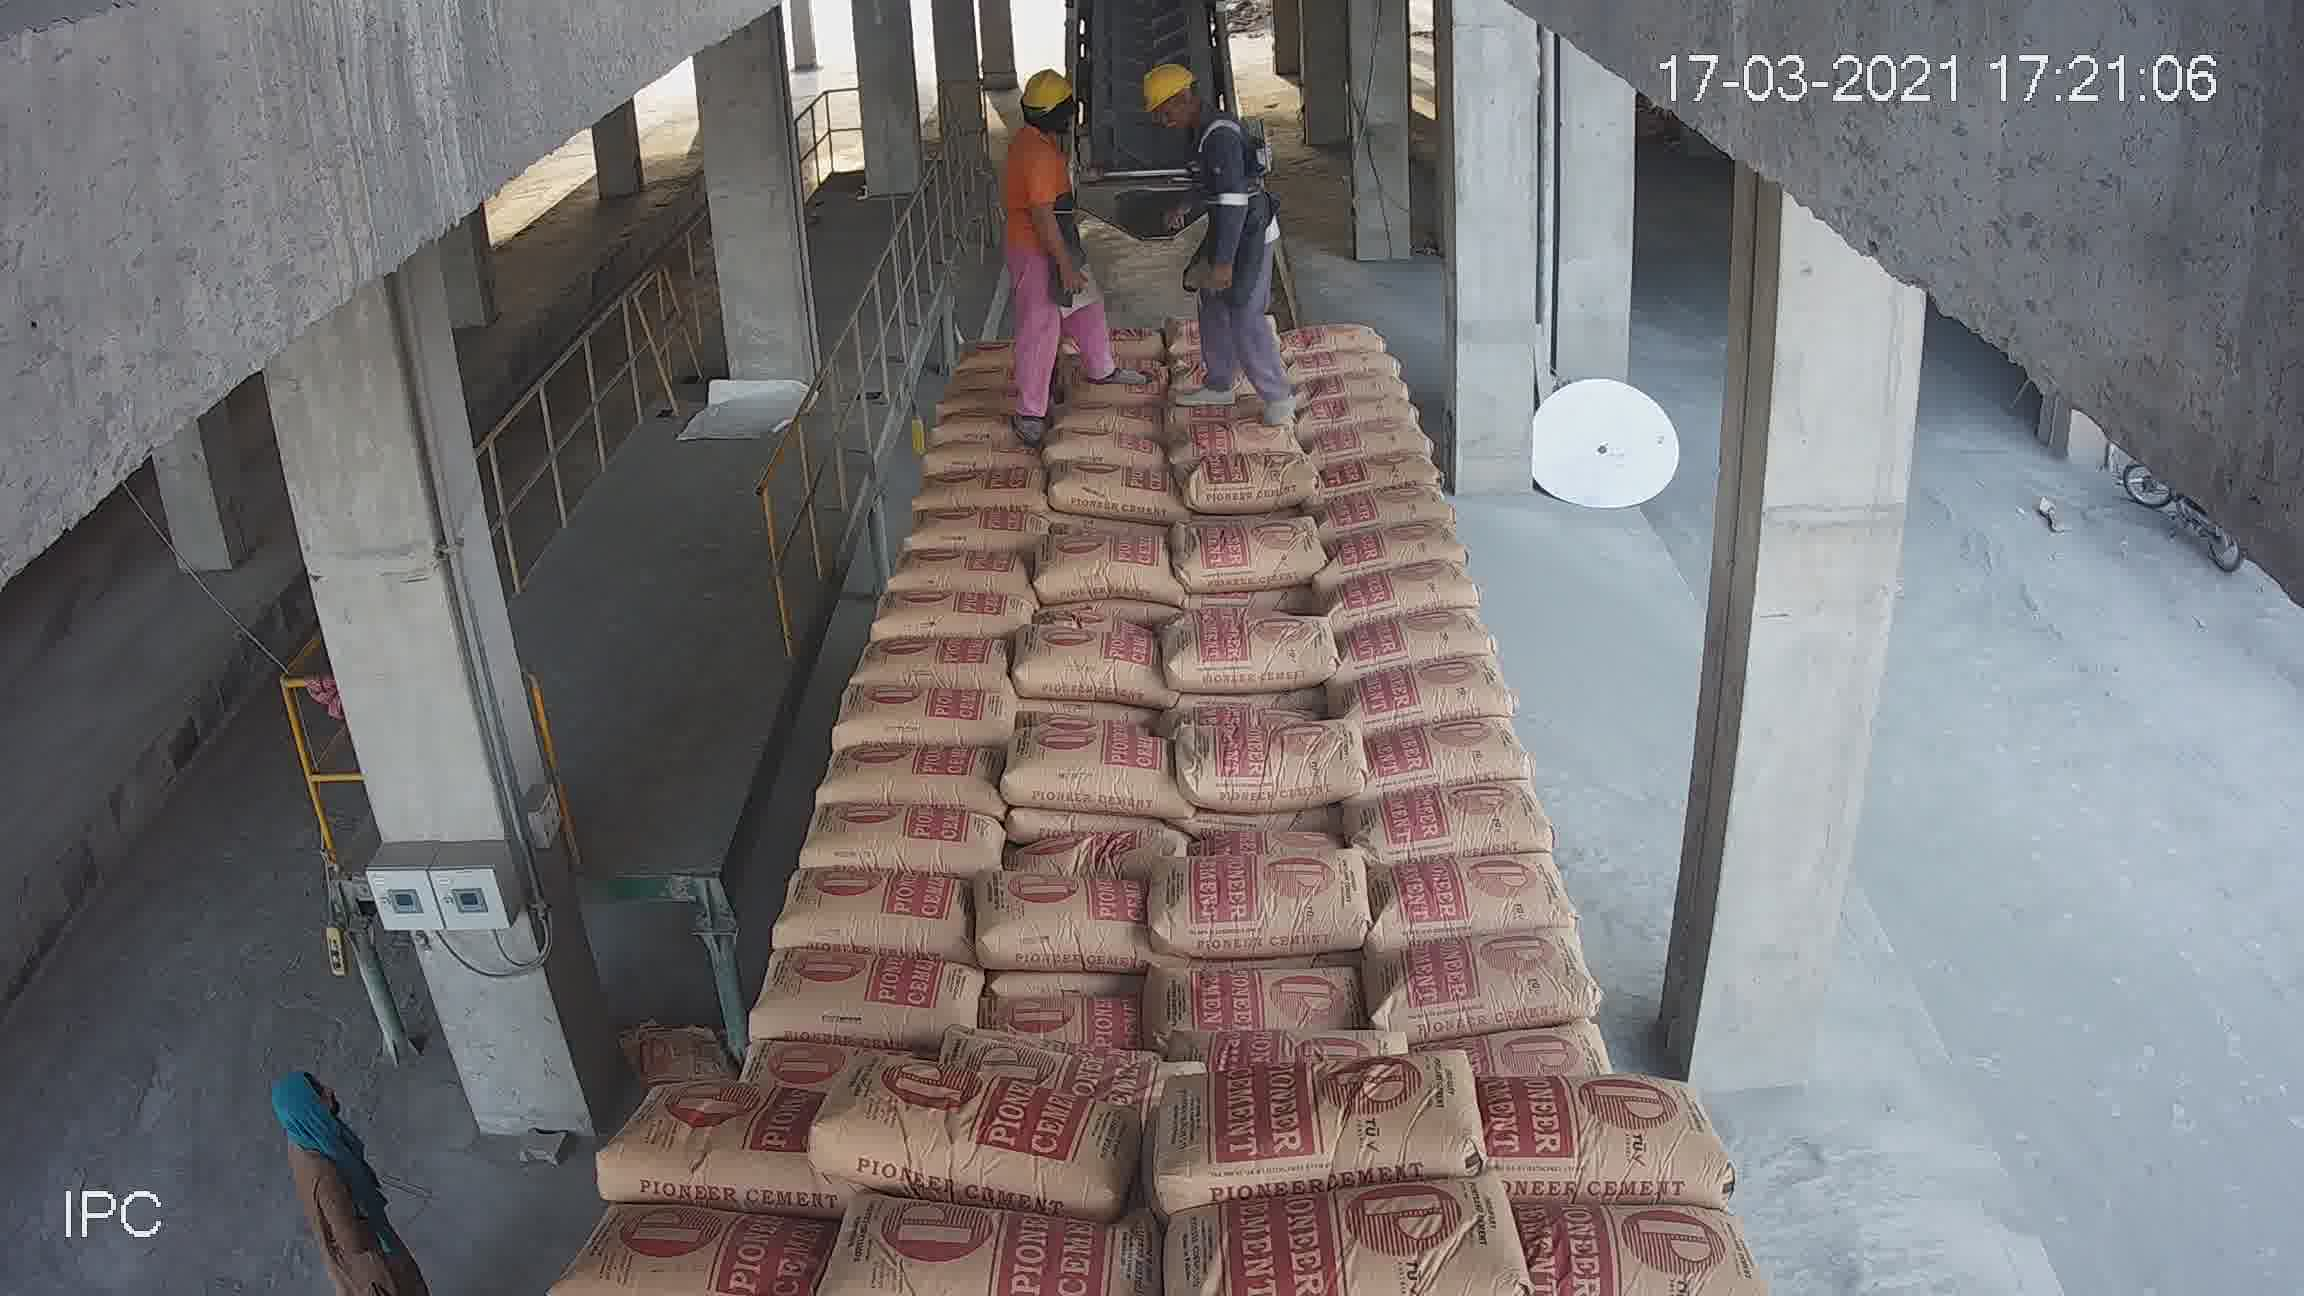bag: (1084, 130, 1220, 256)
bag_h: (1141, 1054, 1487, 1204), (812, 1055, 1176, 1188), (820, 1163, 1184, 1296), (1130, 932, 1457, 1071), (1136, 1184, 1522, 1296), (1136, 831, 1429, 956), (1468, 1070, 1733, 1192), (511, 1192, 832, 1291), (1152, 722, 1396, 850), (1432, 956, 1688, 1074), (641, 957, 892, 1074), (597, 1076, 831, 1201), (861, 843, 1150, 942), (885, 946, 1143, 1055), (1525, 1177, 1771, 1291), (668, 864, 899, 976), (1380, 763, 1597, 870), (1419, 859, 1655, 956), (905, 761, 1157, 851), (706, 790, 904, 872), (994, 658, 1177, 723), (999, 715, 1198, 771), (1377, 715, 1533, 780), (1017, 565, 1177, 628), (1021, 532, 1184, 585), (1016, 617, 1184, 668), (1173, 505, 1294, 574), (1418, 642, 1514, 729), (1176, 548, 1282, 616), (1173, 620, 1255, 679), (1419, 604, 1483, 658)
belt: (1017, 16, 1313, 524)
